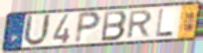4: (51, 13, 71, 45)
B: (100, 9, 129, 43)
L: (154, 8, 175, 38)
P: (73, 10, 103, 45)
R: (125, 9, 155, 41)
U: (22, 13, 53, 48)
